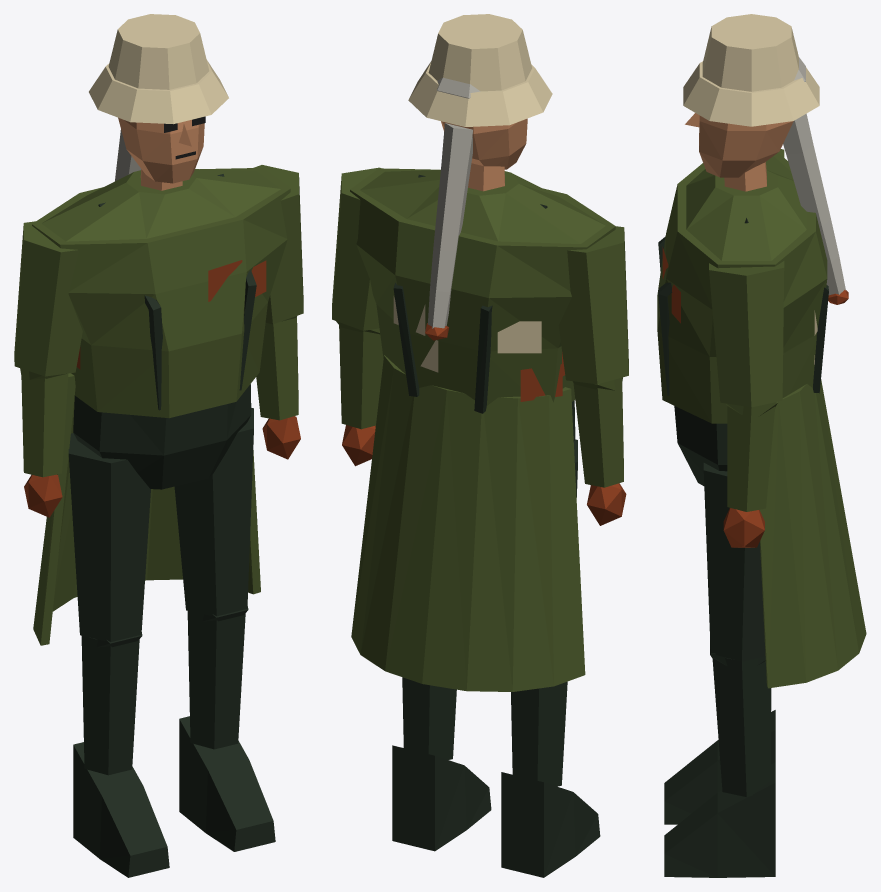
The model's file is mother-rust.glb.
3 views of the same model, side by side, from view 1: azimuth 30°, elevation 25°; view 2: azimuth 150°, elevation 25°; view 3: azimuth 270°, elevation 25° (orthographic). The views are drawn at different scales.
Visible parts, largest first — view 1: chest_mesh, shin_r_mesh, shin_l_mesh, thigh_r_mesh, thigh_l_mesh, prop_mesh, hips_mesh, upper_arm_r_mesh, forearm_r_mesh, coat_r_mesh, forearm_l_mesh, head_mesh (+4 smaller); view 2: coat_r_mesh, chest_mesh, coat_l_mesh, shin_r_mesh, shin_l_mesh, prop_mesh, upper_arm_r_mesh, forearm_r_mesh, hair_mesh, forearm_l_mesh, upper_arm_l_mesh, head_mesh (+1 smaller); view 3: chest_mesh, coat_l_mesh, shin_l_mesh, prop_mesh, upper_arm_l_mesh, thigh_l_mesh, forearm_l_mesh, head_mesh, hair_mesh, shin_r_mesh, hips_mesh, chest_detail.
Part boxes in pixels (box(x1,y1,x2,y2)): chest_mesh: box(32, 168, 290, 418); shin_r_mesh: box(73, 636, 169, 877); shin_l_mesh: box(179, 611, 275, 851); thigh_r_mesh: box(68, 433, 150, 647); thigh_l_mesh: box(174, 408, 253, 621); prop_mesh: box(89, 14, 228, 124); hips_mesh: box(73, 384, 251, 489); upper_arm_r_mesh: box(14, 221, 82, 379); forearm_r_mesh: box(21, 368, 68, 517); coat_r_mesh: box(33, 373, 77, 645); forearm_l_mesh: box(256, 317, 300, 459); head_mesh: box(118, 117, 204, 190); coat_r_mesh: box(422, 387, 585, 691); chest_mesh: box(350, 168, 615, 413); coat_l_mesh: box(351, 355, 447, 683); shin_r_mesh: box(501, 681, 600, 877); shin_l_mesh: box(392, 677, 491, 851); prop_mesh: box(408, 14, 552, 126); upper_arm_r_mesh: box(558, 226, 628, 390); forearm_r_mesh: box(573, 377, 626, 525); hair_mesh: box(425, 123, 472, 340); forearm_l_mesh: box(339, 325, 383, 466); upper_arm_l_mesh: box(332, 167, 380, 334); head_mesh: box(437, 77, 527, 191); chest_mesh: box(657, 153, 828, 423); coat_l_mesh: box(760, 379, 866, 688); shin_l_mesh: box(664, 658, 775, 877); prop_mesh: box(683, 14, 819, 126); upper_arm_l_mesh: box(709, 261, 784, 416); thigh_l_mesh: box(703, 463, 765, 666); forearm_l_mesh: box(723, 406, 775, 547); head_mesh: box(699, 57, 805, 191); hair_mesh: box(783, 113, 848, 304); shin_r_mesh: box(664, 710, 775, 824); hips_mesh: box(674, 406, 727, 485); chest_detail: box(662, 247, 817, 364).
Bounding box in the file's own units: 0.698 × 1.84 × 0.4312.
